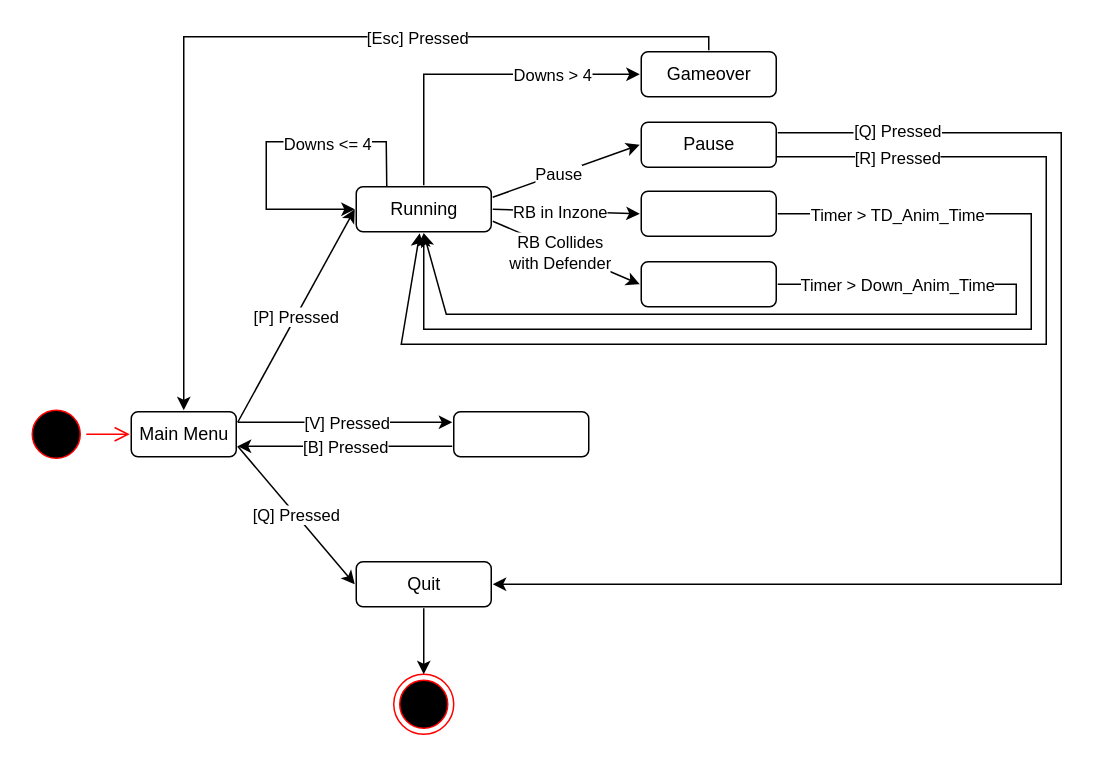
This 1100x761 diagram has some shape labels left out. Here are the shapes that lost their labels. From the top down, the centre of each, then its label:
the point at 708,213: Touchdown
the point at 708,283: Down
the point at 520,433: Scores
